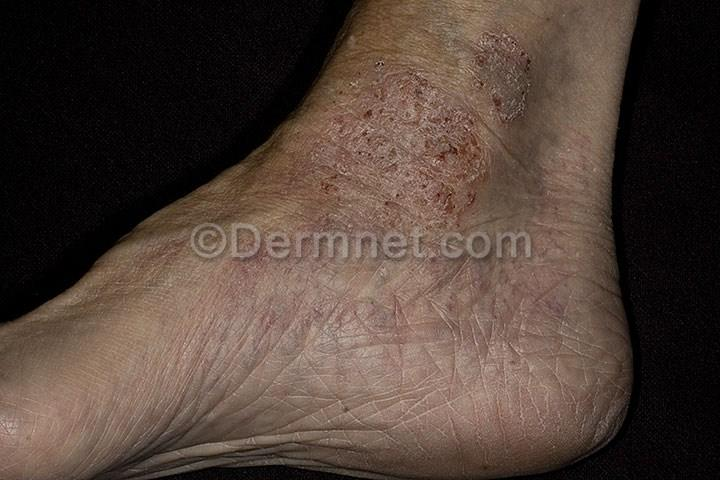Eczema: (314, 61, 491, 227), (457, 25, 562, 132)
